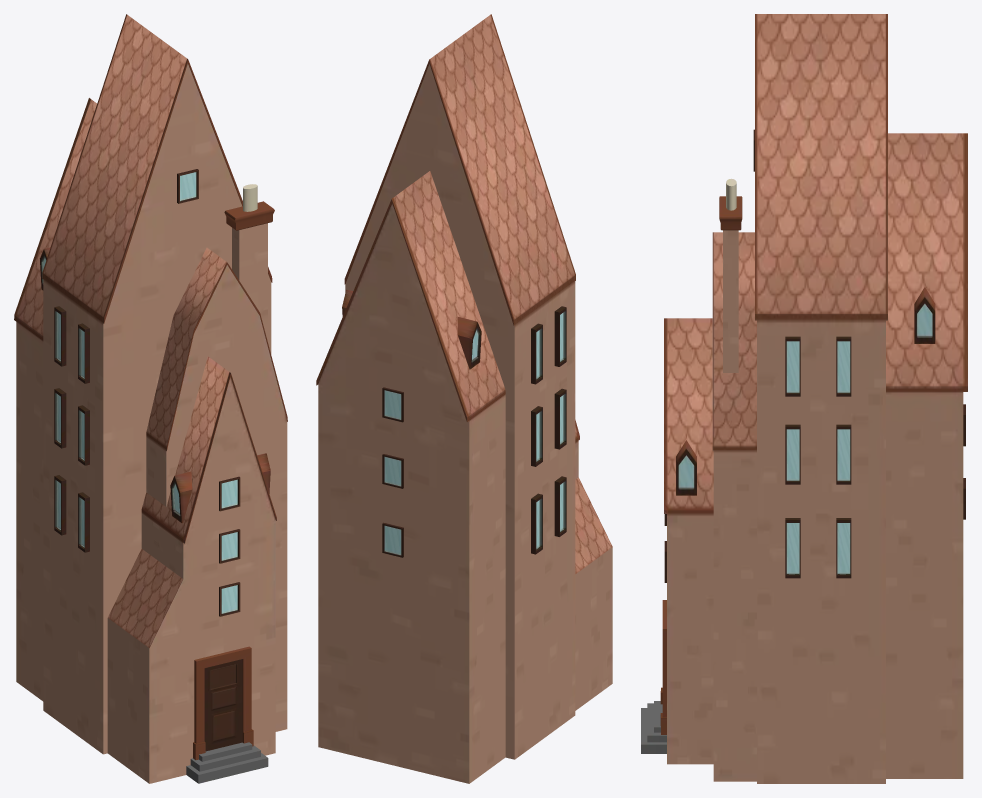
File: french_tallhouse_01.glb
3 renders of one model, left to right at view 1: azimuth 30°, elevation 25°; view 2: azimuth 150°, elevation 25°; view 3: azimuth 270°, elevation 25°, orthographic. The views are drawn at different scales.
Visible parts, largest first — view 1: tallhouse; view 2: tallhouse; view 3: tallhouse.
Boxes of the visible parts, x1=… form: tallhouse: x1=14, y1=14, x2=287, y2=783; tallhouse: x1=316, y1=14, x2=612, y2=783; tallhouse: x1=641, y1=14, x2=967, y2=783.
Bounding box in the file's own units: 5 × 18.28 × 7.46.
Materials: 1 (1 with a texture image).
